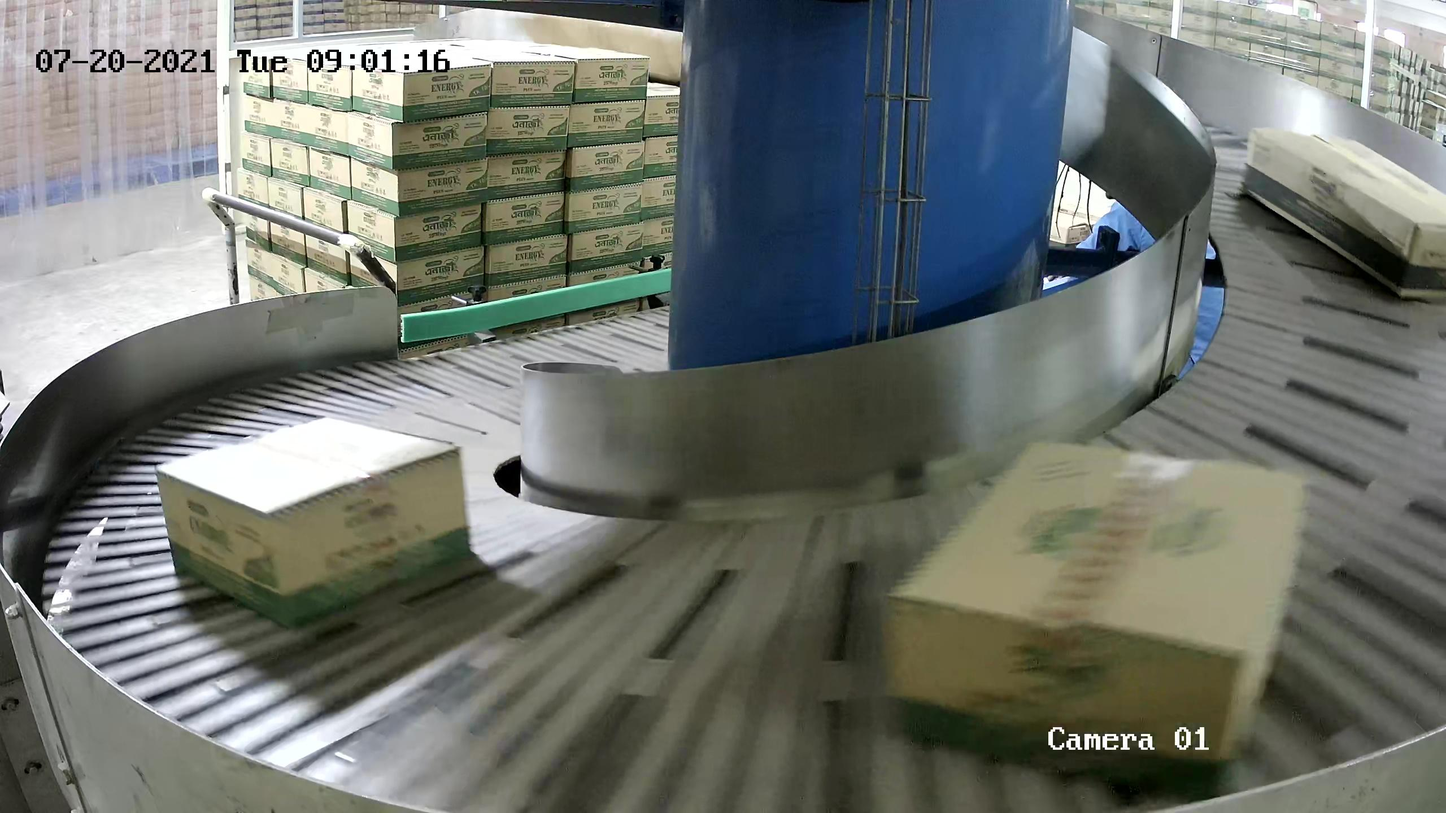Box: (878, 436, 1309, 802), (154, 415, 472, 630), (1241, 125, 1446, 299)
